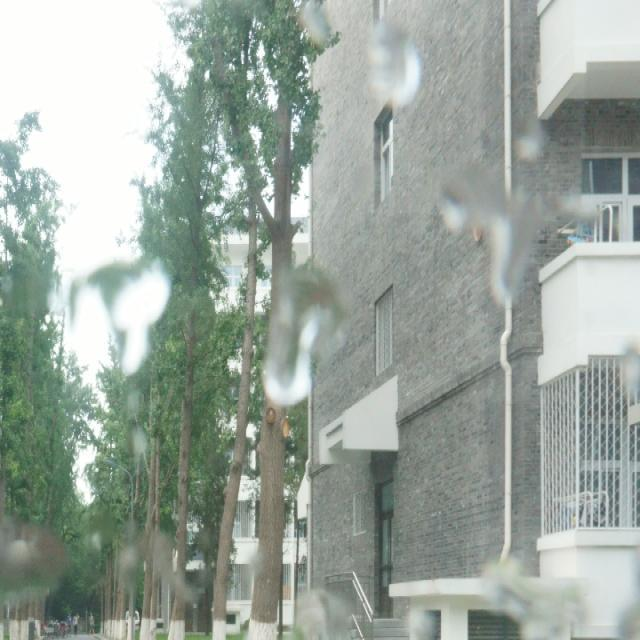raindrop: (436, 143, 544, 296), (262, 270, 348, 408), (109, 522, 216, 610), (483, 565, 586, 640), (110, 260, 176, 376), (0, 516, 73, 603), (361, 29, 425, 112), (62, 286, 114, 378), (294, 589, 349, 640), (558, 176, 602, 235), (512, 116, 552, 180), (611, 335, 640, 411), (306, 0, 340, 50), (393, 605, 441, 640), (124, 423, 148, 463)
